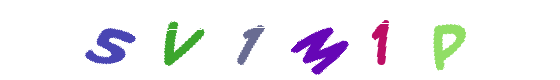1: (240, 0, 320, 80), (341, 0, 421, 80)
5: (123, 0, 203, 80)
M: (280, 0, 360, 80)
P: (380, 0, 460, 80)
V: (138, 0, 218, 80)
